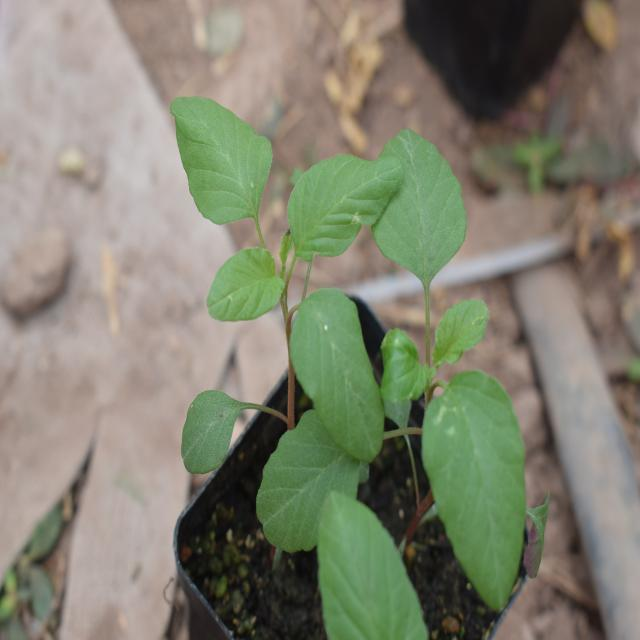pigweed: (160, 64, 399, 461), (355, 140, 537, 594)
